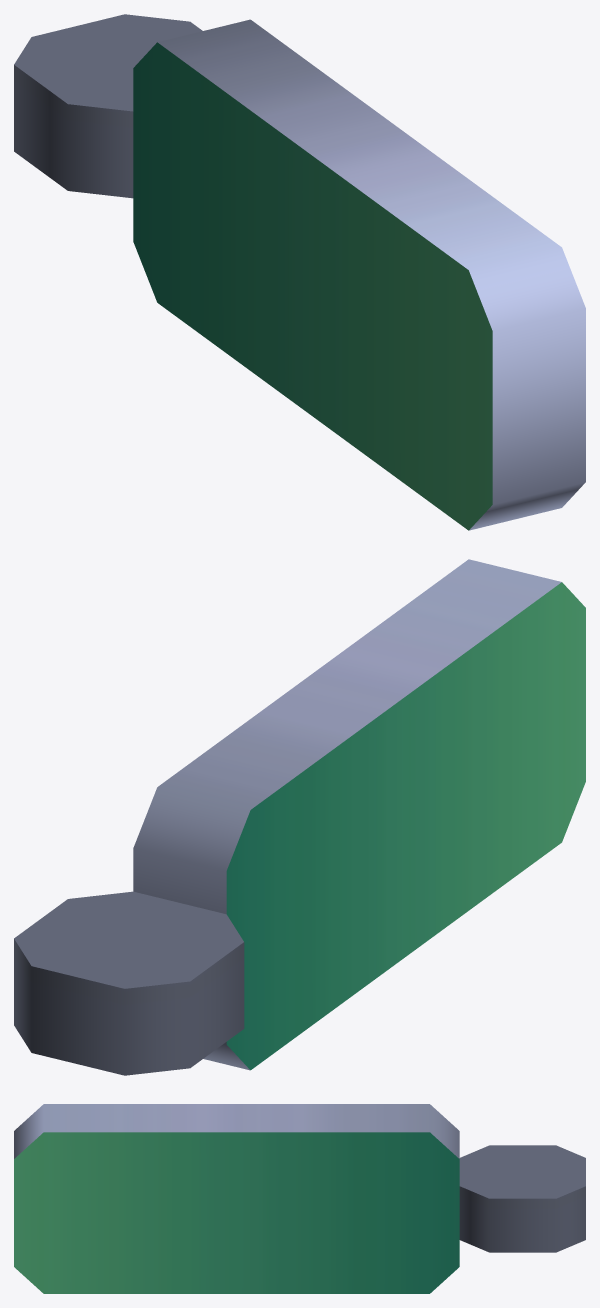
File: road-sign-object-street.glb
3 renders of one model, top to bottom at view 1: azimuth 30°, elevation 25°; view 2: azimuth 150°, elevation 25°; view 3: azimuth 270°, elevation 25°, orthographic. The views are drawn at different scales.
Parts seen in each view (by area): view 1: road-sign-object-street; view 2: road-sign-object-street; view 3: road-sign-object-street.
Boxes of the visible parts, box(x1,y1,x2,y2) form: road-sign-object-street: box(14, 14, 585, 530); road-sign-object-street: box(14, 559, 585, 1075); road-sign-object-street: box(14, 1104, 585, 1293).
Bounding box in the file's own units: 0.0425 × 0.06 × 0.1925.
1 material, 1 textured.
